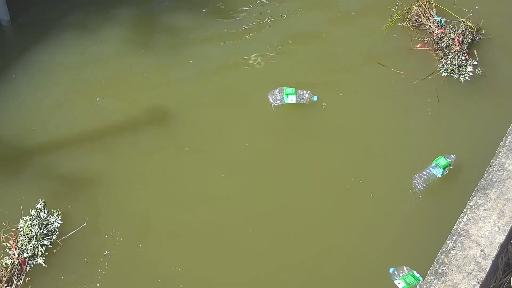plastic: (401, 149, 459, 198), (268, 85, 319, 109), (383, 263, 431, 288)
twig: (377, 0, 491, 104), (1, 193, 60, 288)
